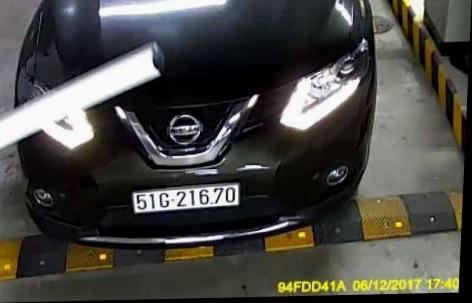License_Plate: (125, 181, 245, 216)
